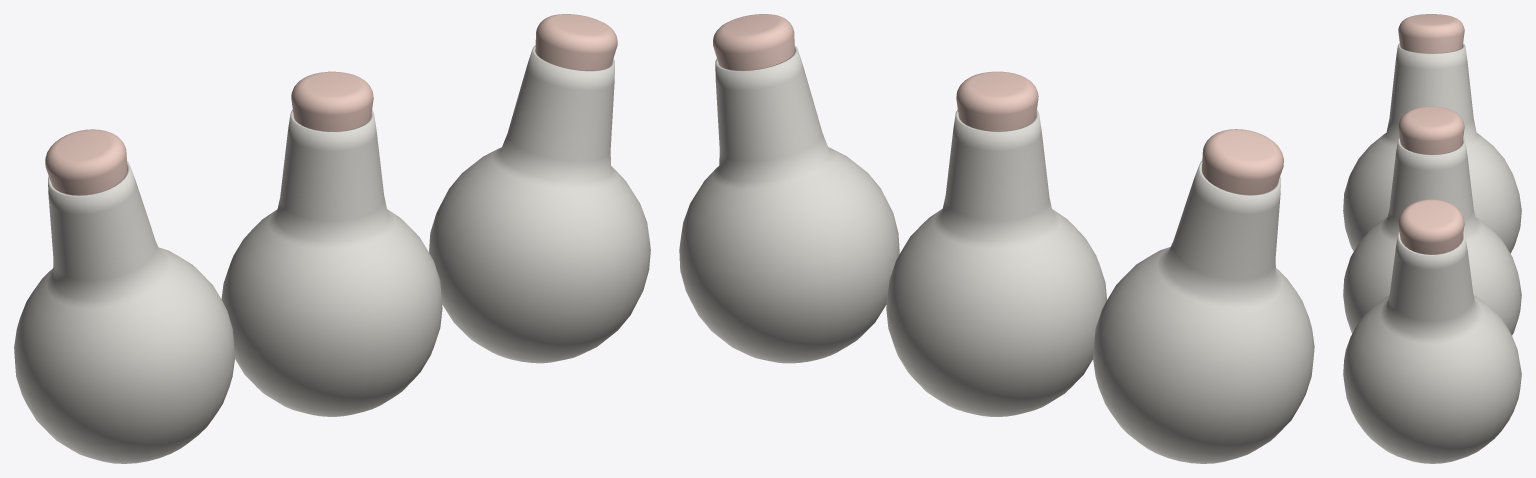
The model's file is potion.fbx.
3 renders of one model, left to right at view 1: azimuth 30°, elevation 25°; view 2: azimuth 150°, elevation 25°; view 3: azimuth 270°, elevation 25°, orthographic. The views are drawn at different scales.
Parts seen in each view (by area): view 1: Sphere.002, Sphere, Sphere.003, Cylinder.002, Cylinder, Cylinder.001; view 2: Sphere.002, Sphere, Sphere.003, Cylinder.002, Cylinder, Cylinder.001; view 3: Sphere.002, Sphere.003, Sphere, Cylinder.001, Cylinder, Cylinder.002.
Part boxes in pixels (left/top/right/bottom): Sphere.002: left=429, top=45, right=650, bottom=363; Sphere: left=221, top=109, right=442, bottom=416; Sphere.003: left=14, top=161, right=234, bottom=463; Cylinder.002: left=45, top=129, right=127, bottom=195; Cylinder: left=291, top=71, right=373, bottom=131; Cylinder.001: left=535, top=14, right=617, bottom=70; Sphere.002: left=679, top=45, right=899, bottom=363; Sphere: left=886, top=109, right=1106, bottom=416; Sphere.003: left=1093, top=160, right=1314, bottom=463; Cylinder.002: left=1202, top=129, right=1283, bottom=194; Cylinder: left=956, top=71, right=1038, bottom=131; Cylinder.001: left=713, top=14, right=794, bottom=70; Sphere.002: left=1343, top=231, right=1521, bottom=463; Sphere.003: left=1343, top=43, right=1521, bottom=253; Sphere: left=1343, top=137, right=1521, bottom=335; Cylinder.001: left=1398, top=199, right=1464, bottom=254; Cylinder: left=1398, top=106, right=1464, bottom=154; Cylinder.002: left=1398, top=14, right=1464, bottom=53.
Size of the model in its own units: 620 by 319 by 196.
